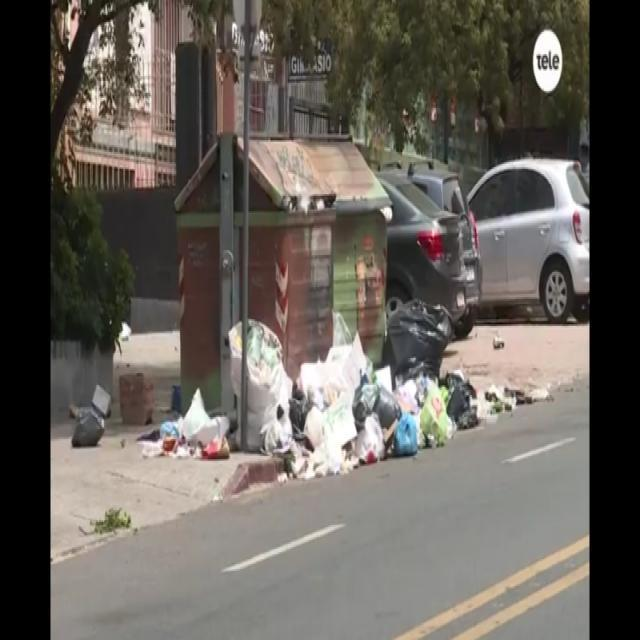high trash: (140, 301, 550, 496)
less trash: (70, 385, 111, 447), (119, 372, 154, 424)
